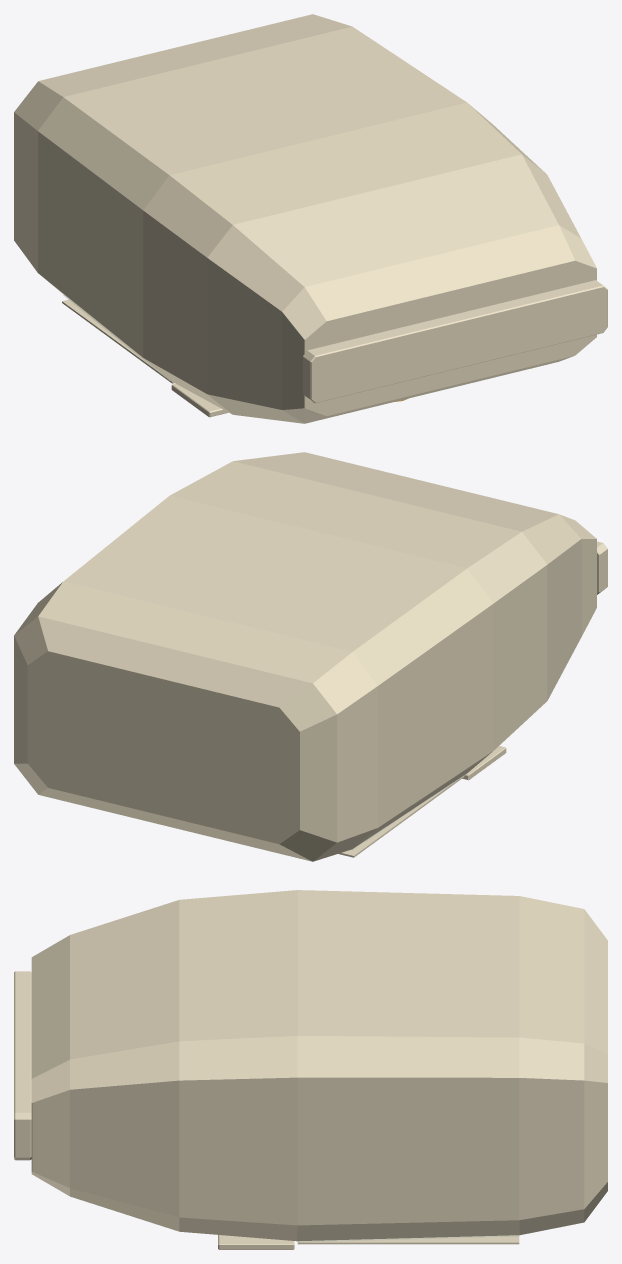
File: caramels.glb
3 renders of one model, top to bottom at view 1: azimuth 30°, elevation 25°; view 2: azimuth 150°, elevation 25°; view 3: azimuth 270°, elevation 25°, orthographic.
Parts seen in each view (by area): view 1: caramels; view 2: caramels; view 3: caramels.
Part boxes in pixels (x1,y1,x2,y2): caramels: [14, 14, 607, 423]; caramels: [14, 452, 607, 861]; caramels: [14, 890, 607, 1249].
Size of the model in its own units: 0.1236 by 0.0721 by 0.1809.
